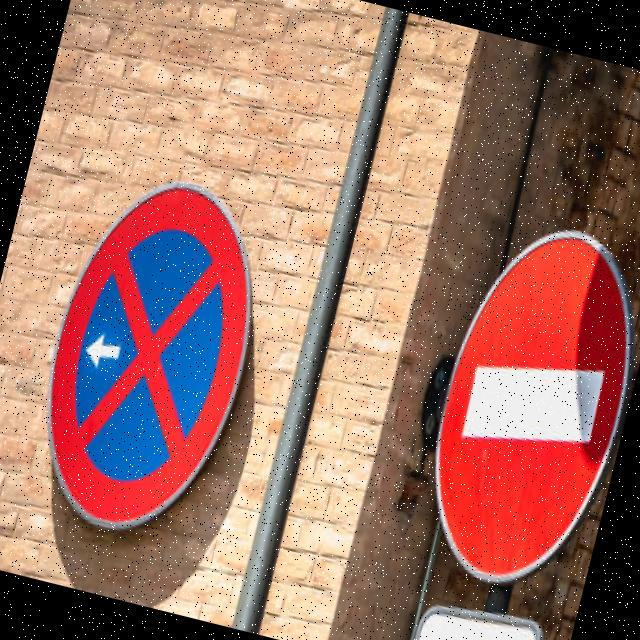do_not_enter: (393, 190, 640, 605)
